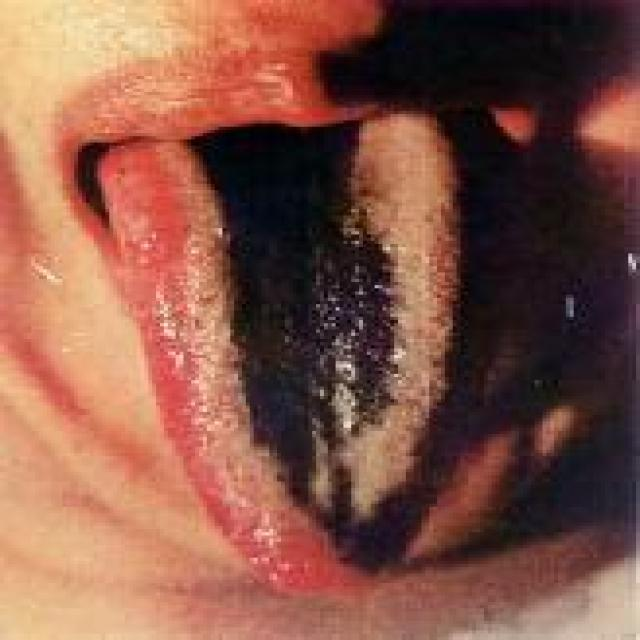tongue: (91, 134, 525, 606)
